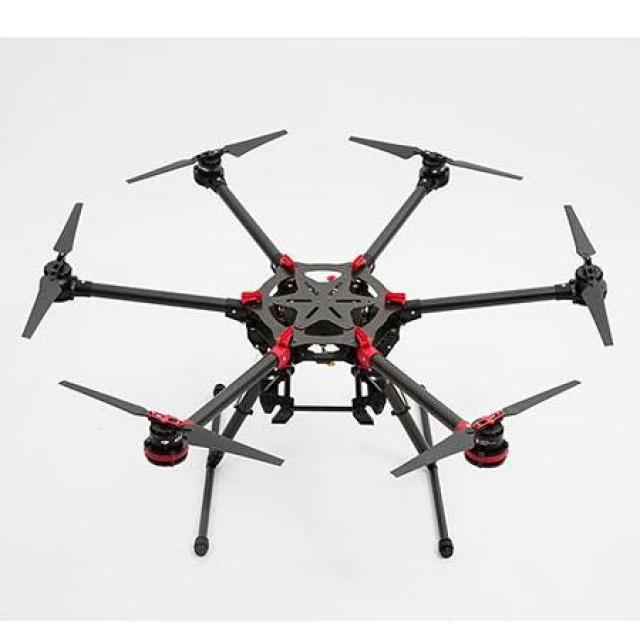drone: (22, 91, 640, 558)
